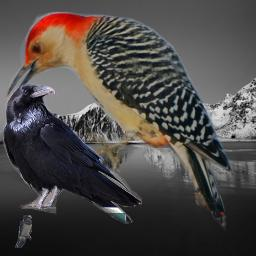Crow: (3, 83, 142, 224)
Swallow: (15, 215, 32, 248)
Woodpecker: (5, 11, 237, 231)
